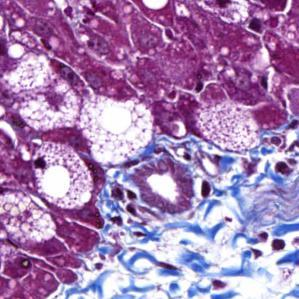ballooning: (3, 51, 81, 135), (78, 93, 158, 170), (30, 138, 94, 214), (3, 191, 57, 248)
